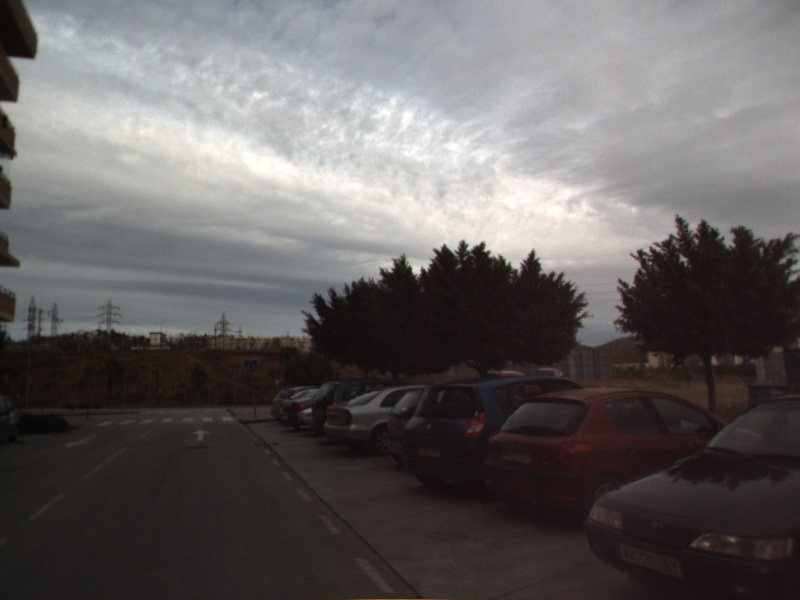STRAIGHT: (190, 428, 213, 443)
